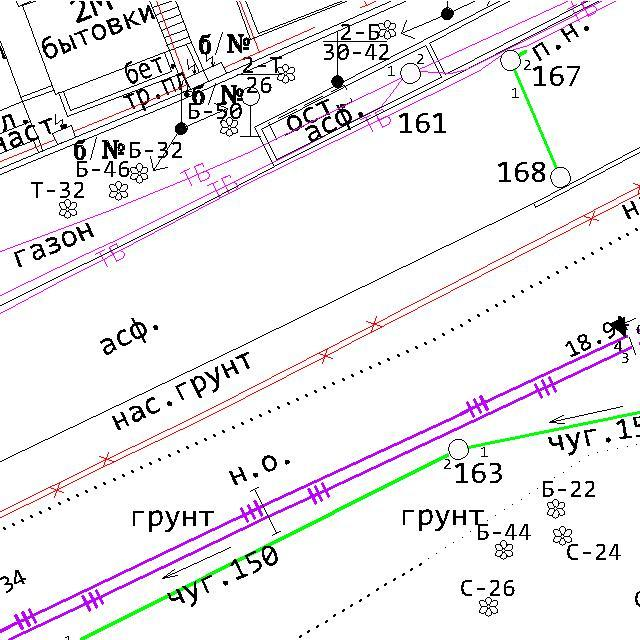asphalt: (98, 316, 160, 357), (304, 104, 365, 143)
bushes: (551, 524, 574, 548), (107, 179, 130, 202), (493, 538, 515, 562), (128, 162, 150, 185), (57, 197, 79, 220), (478, 596, 500, 618), (546, 497, 567, 520), (377, 18, 398, 40), (275, 63, 296, 85), (219, 115, 239, 138)
mark: (609, 315, 628, 339)
sing: (240, 86, 262, 140)
well: (445, 436, 472, 464), (497, 47, 523, 73), (398, 61, 423, 86), (550, 164, 572, 190)
